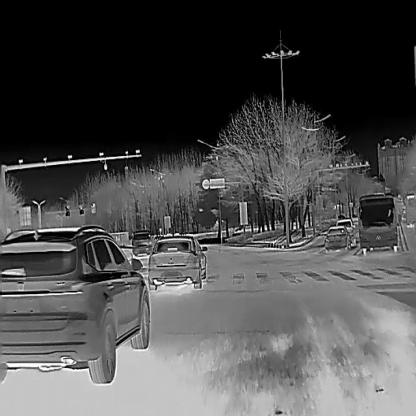bus: (357, 191, 398, 253), (404, 191, 415, 228)
car: (0, 222, 150, 382), (147, 233, 207, 289), (323, 223, 351, 251), (131, 229, 152, 255), (335, 218, 356, 244)
